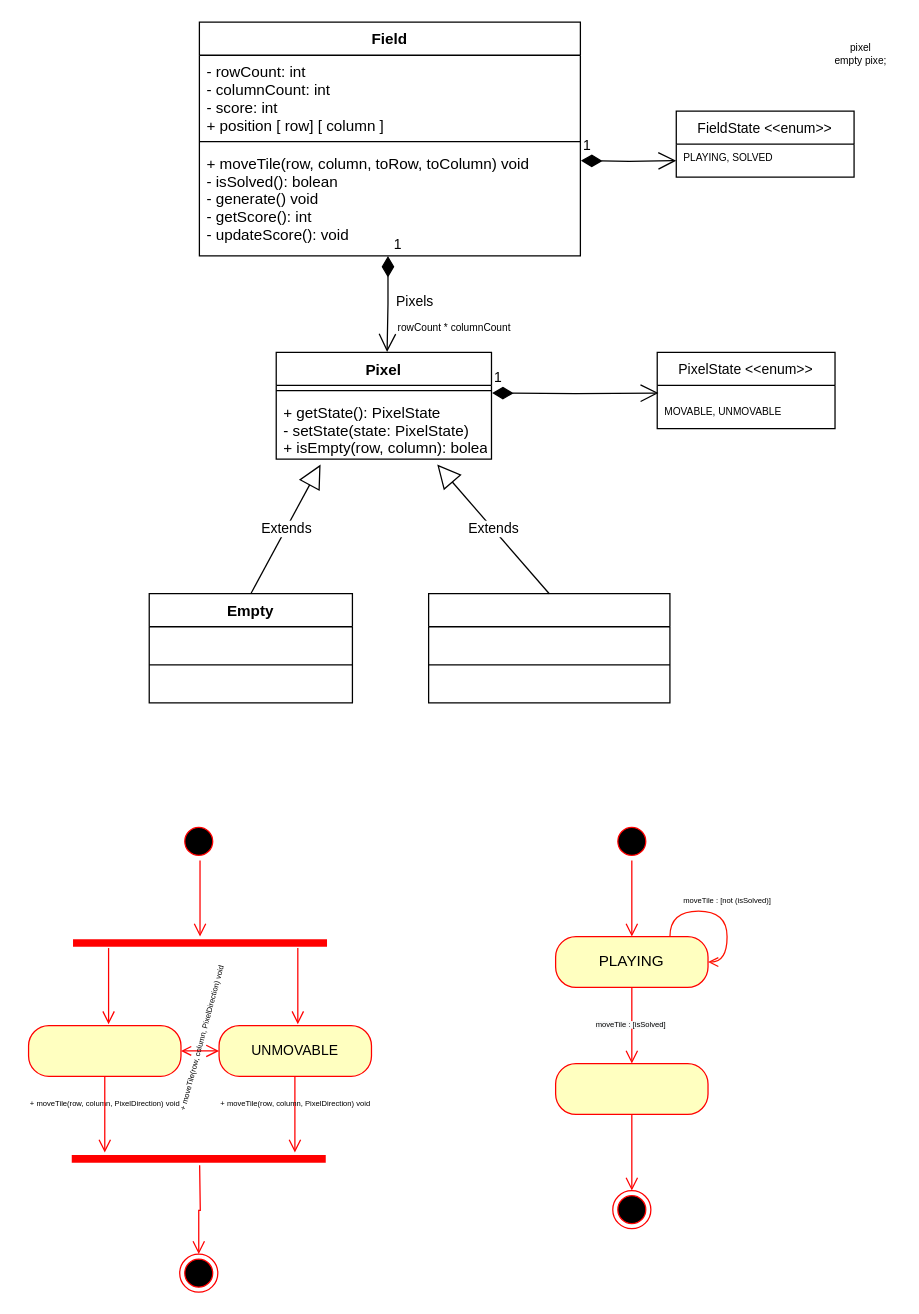
The diagram is 919 pixels wide and 1314 high, and some of its shapes have lost their labels. Each missing label, with the centre of its shape:
MOVABLE: the point at 104,1050
Nonepmty: the point at 548,647
SOLVED: the point at 631,1088
